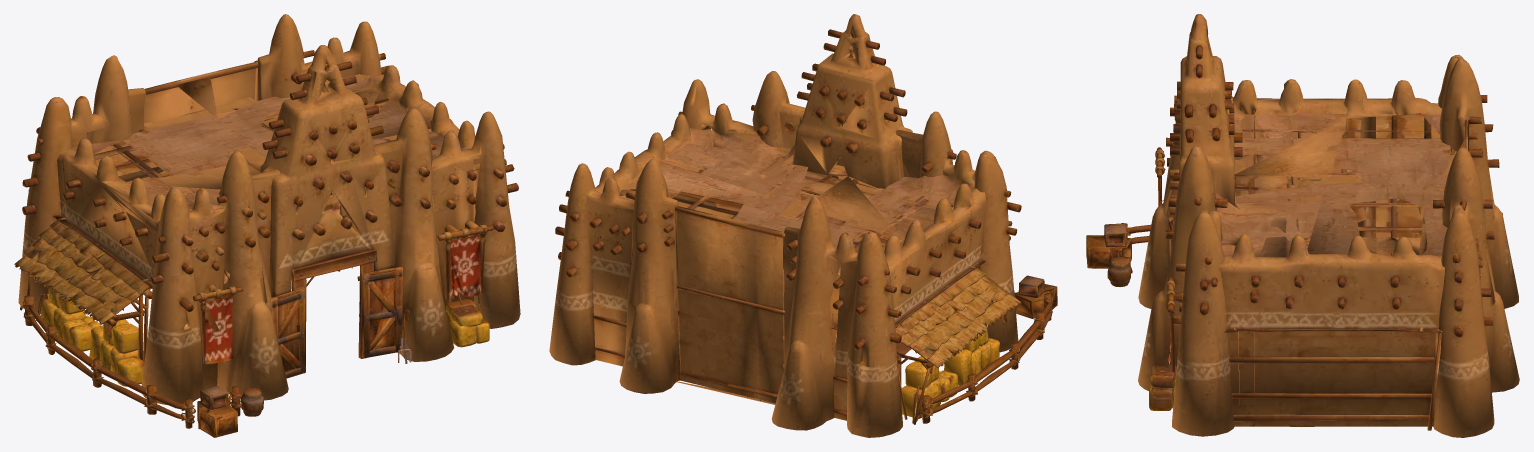
Rendered from saheliana.glb.
3 views of the same model, side by side, from view 1: azimuth 30°, elevation 25°; view 2: azimuth 150°, elevation 25°; view 3: azimuth 270°, elevation 25° (orthographic). The views are drawn at different scales.
Bounding box in the file's own units: 0.958 × 0.7183 × 0.8643.
Materials: 1 (1 with a texture image).
